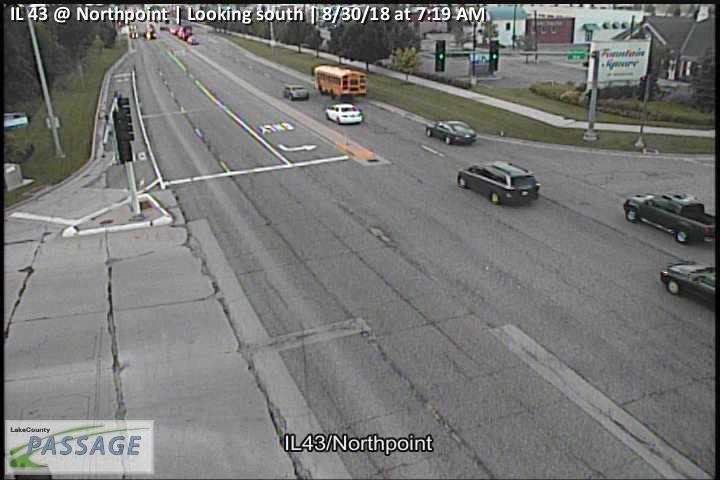Bus: (314, 64, 368, 100)
SUV: (457, 161, 541, 205)
Sedan: (660, 261, 716, 295), (425, 120, 478, 145), (325, 102, 362, 124), (283, 85, 311, 102)
Truck: (622, 192, 716, 244)
